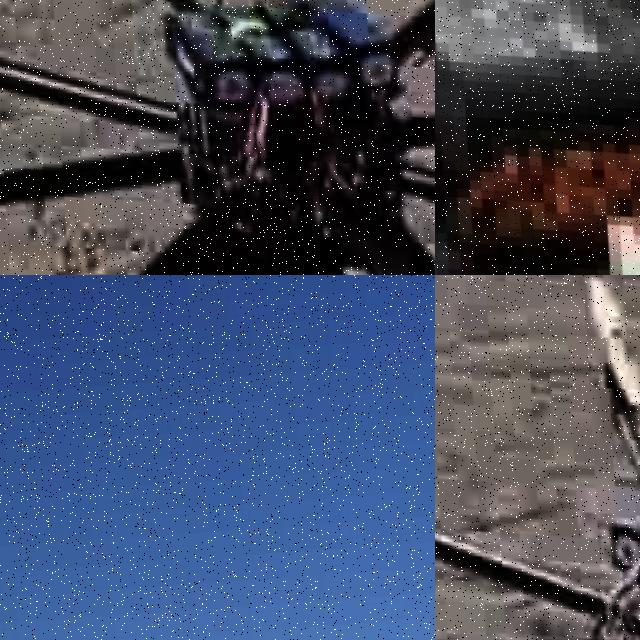drone: (0, 0, 435, 275), (435, 275, 640, 640), (435, 0, 640, 275)
